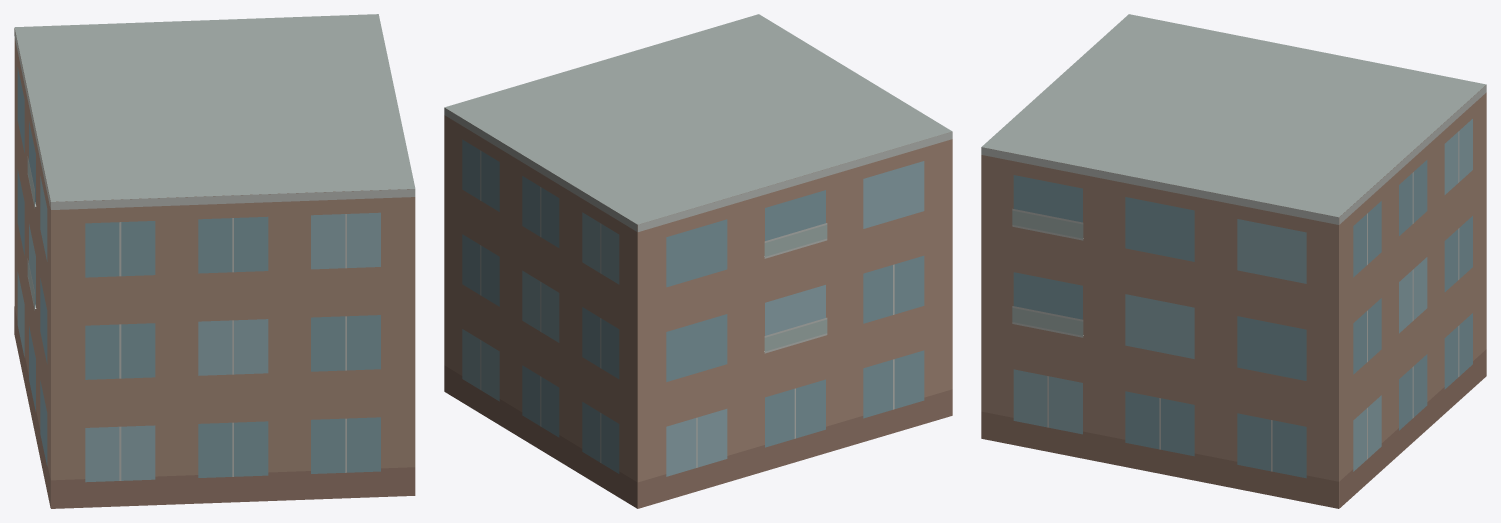
Rendered from survey-upis-32812962.glb.
3 views of the same model, side by side, from view 1: azimuth 30°, elevation 25°; view 2: azimuth 150°, elevation 25°; view 3: azimuth 270°, elevation 25° (orthographic). The views are drawn at different scales.
Visible parts, largest first — view 1: survey-upis-32812962.tmp; view 2: survey-upis-32812962.tmp; view 3: survey-upis-32812962.tmp.
Part boxes in pixels (x1,y1,x2,y2): survey-upis-32812962.tmp: [14, 14, 415, 508]; survey-upis-32812962.tmp: [444, 14, 952, 508]; survey-upis-32812962.tmp: [981, 14, 1486, 508].
Size of the model in its own units: 13.69 by 9.15 by 14.38.
